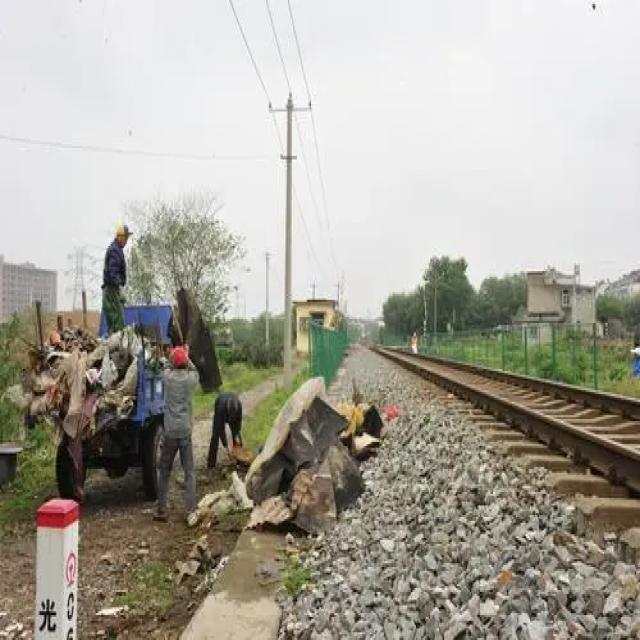Stone: (256, 385, 368, 535)
people: (89, 213, 138, 352), (165, 337, 201, 518), (208, 383, 242, 470), (411, 323, 420, 362)
